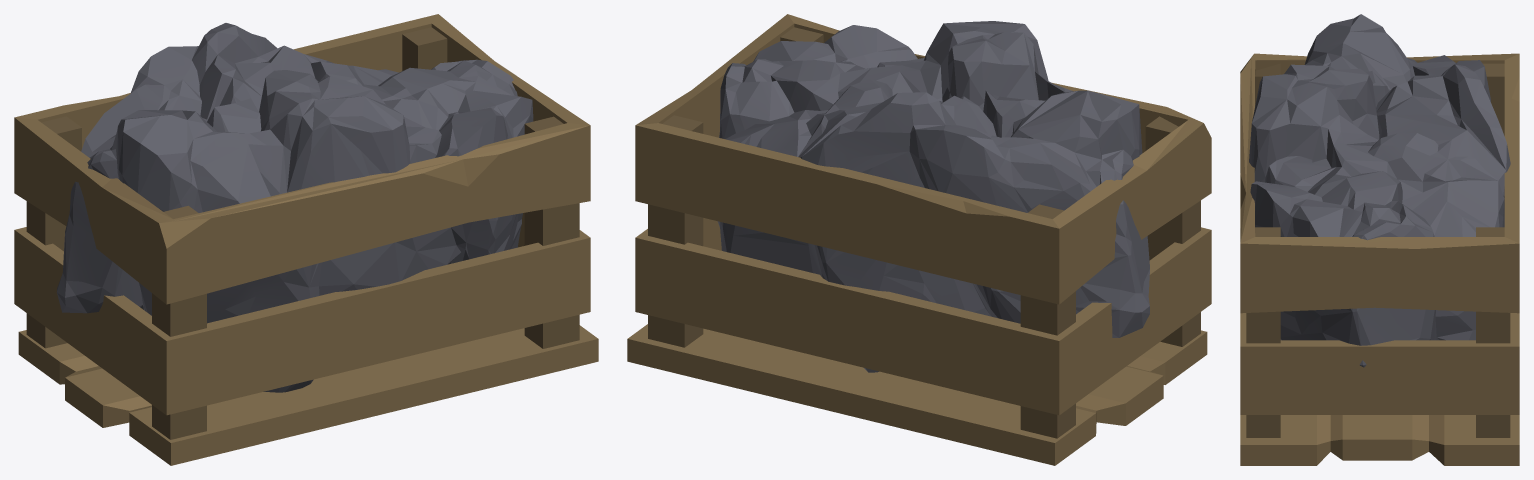
The model's file is coalcrate.fbx.
3 renders of one model, left to right at view 1: azimuth 30°, elevation 25°; view 2: azimuth 150°, elevation 25°; view 3: azimuth 270°, elevation 25°, orthographic. The views are drawn at different scales.
Parts seen in each view (by area): view 1: coal; view 2: coal; view 3: coal.
Part boxes in pixels (x1=…): coal: x1=14, y1=14, x2=598, y2=465; coal: x1=627, y1=14, x2=1211, y2=465; coal: x1=1240, y1=14, x2=1519, y2=465.
Size of the model in its own units: 136 by 88.76 by 79.41.
